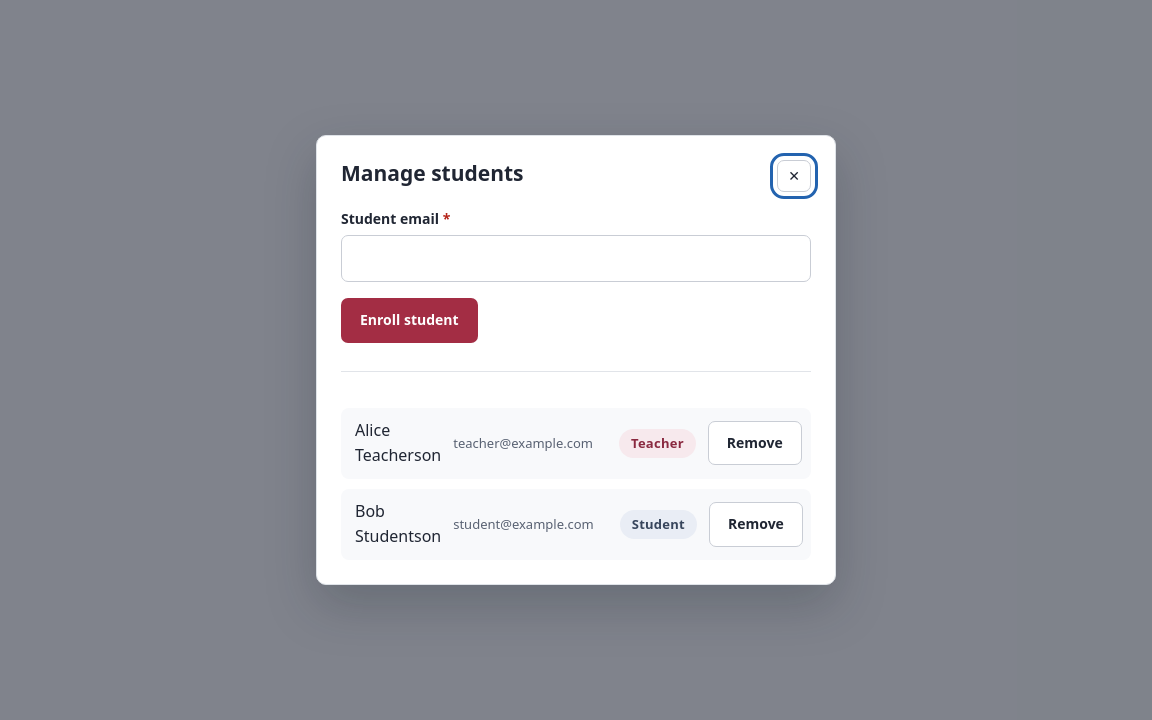
Test: ManageEnrollmentsModal › removes a member and refreshes the roster
This screenshot has width=1152, height=720.
Expected: the text "student@example.com" is shown, [453,514,594,535]
Click the button "Remove" in the row of "Bob Studentson": [756, 524] box [709,502,803,547]
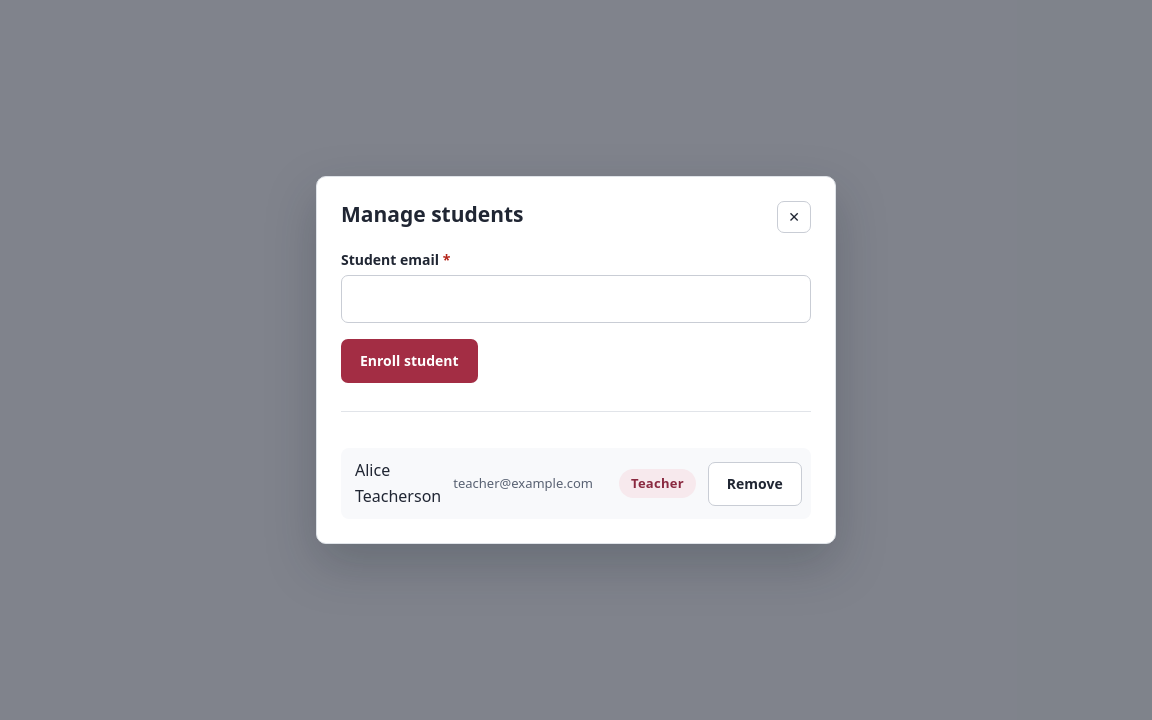
Expected: the number of buttons "Remove" is 1, [708,462,802,506]
Expected: the text "student@example.com" is gone
